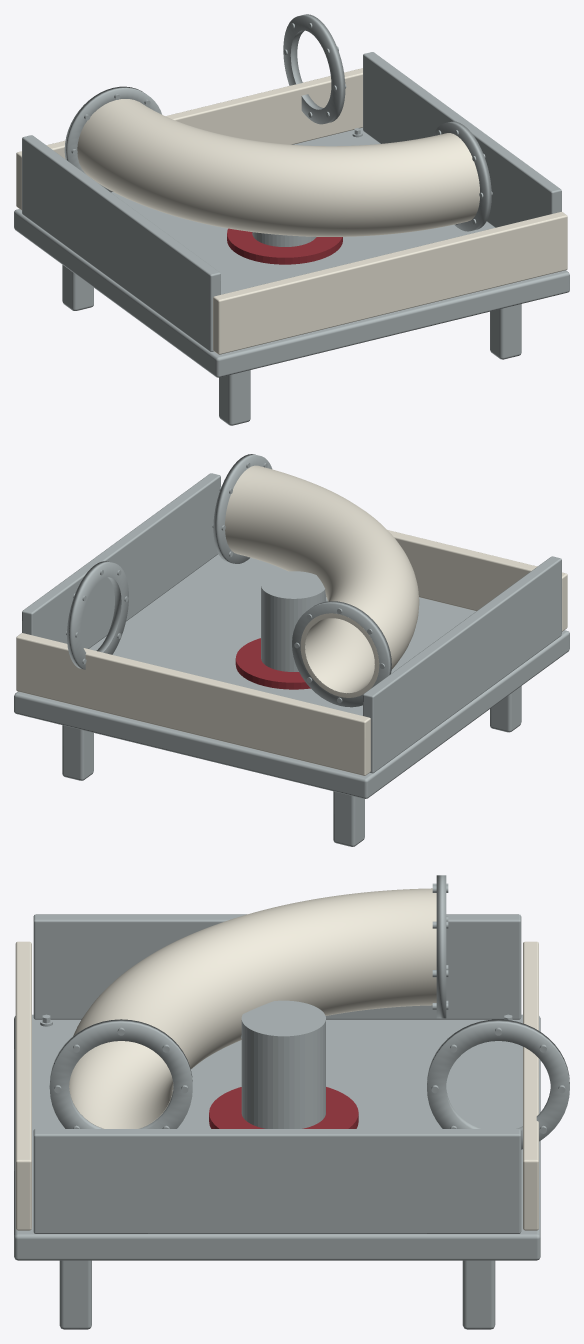
Rendered from pneumatic-tube-mail-exchange-pneumatic-tube-mail-excha-ee40b706__32289.glb.
3 views of the same model, one above another, from view 1: azimuth 30°, elevation 25°; view 2: azimuth 150°, elevation 25°; view 3: azimuth 270°, elevation 25° (orthographic). The views are drawn at different scales.
Parts seen in each view (by area): view 1: pneumatic-tube-mail-exchange-rotary-route-diverter; view 2: pneumatic-tube-mail-exchange-rotary-route-diverter; view 3: pneumatic-tube-mail-exchange-rotary-route-diverter.
Boxes of the visible parts, <box> form: pneumatic-tube-mail-exchange-rotary-route-diverter: <box>14,14,569,425</box>; pneumatic-tube-mail-exchange-rotary-route-diverter: <box>14,454,569,846</box>; pneumatic-tube-mail-exchange-rotary-route-diverter: <box>14,875,569,1329</box>.
Size of the model in its own units: 1.62 by 0.9699 by 1.71.
